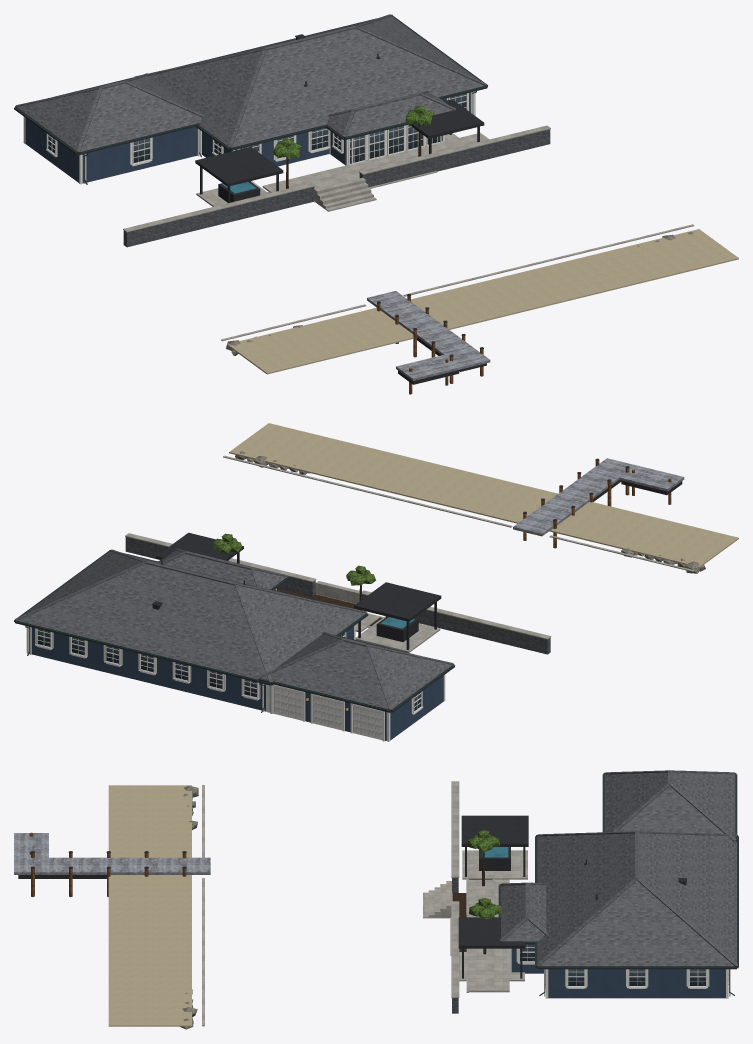
File: lot-8419.fbx
3 renders of one model, top to bottom at view 1: azimuth 30°, elevation 25°; view 2: azimuth 150°, elevation 25°; view 3: azimuth 270°, elevation 25°, orthographic. The views are drawn at different scales.
Visible parts, largest first — view 1: lot-8419_LOD0; view 2: lot-8419_LOD0; view 3: lot-8419_LOD0.
Boxes of the visible parts, box(x1,y1,x2,y2) form: lot-8419_LOD0: box(14, 14, 738, 394); lot-8419_LOD0: box(14, 423, 738, 741); lot-8419_LOD0: box(14, 770, 738, 1029).
Size of what is drawn, in the model's own units: 39.07 by 7.7 by 49.73.
Materials: 2 (2 with a texture image).
